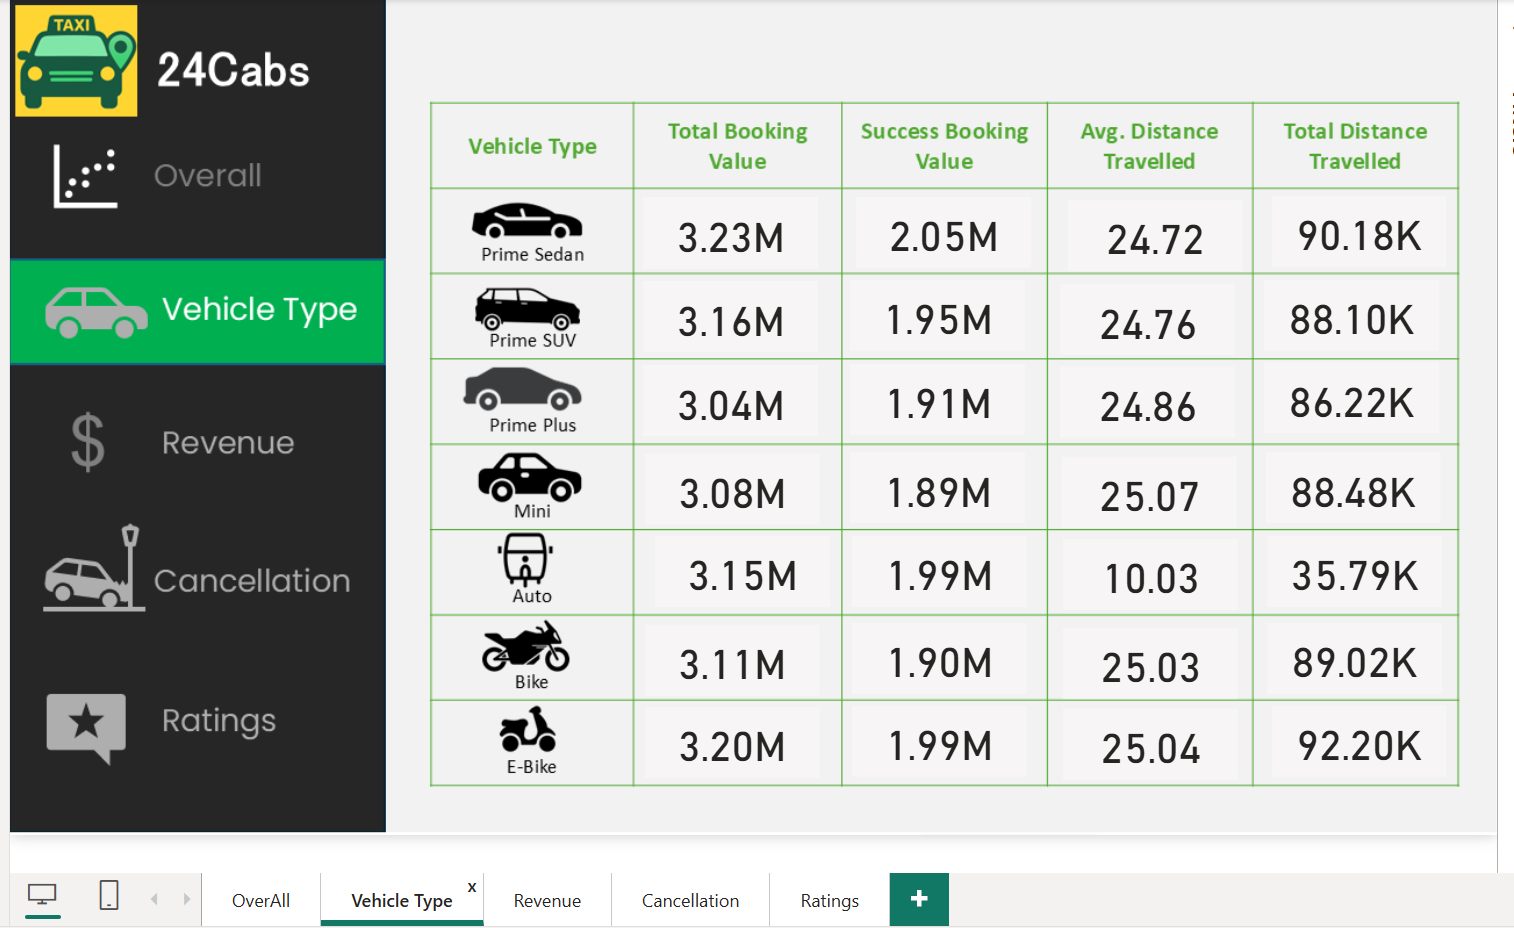

This screenshot's page, from the dashboard's own definition file:
{"tool":"powerbi","page":{"name":"Vehicle Type","canvas":[1280,720],"ordinal":1},"visuals":[{"type":"card","fields":{"Values":["Sum(July.Booking_Value)"]},"box":[544.8,169.8,150.9,62.1],"z":0},{"type":"card","fields":{"Values":["Sum(July.Booking_Value)"]},"box":[544.8,243.1,150.9,61.2],"z":1000},{"type":"card","fields":{"Values":["Sum(July.Booking_Value)"]},"box":[544.8,314.7,150.9,61.2],"z":2000},{"type":"card","fields":{"Values":["Sum(July.Booking_Value)"]},"box":[555.8,462.3,150.6,61],"z":3000},{"type":"card","fields":{"Values":["Sum(July.Booking_Value)"]},"box":[545.7,391.4,150.9,61.2],"z":4000},{"type":"card","fields":{"Values":["Sum(July.Booking_Value)"]},"box":[785.3,719.8,150.9,61.2],"z":5000},{"type":"card","fields":{"Values":["Sum(July.Booking_Value)"]},"box":[777.6,737.1,150.9,61.2],"z":6000},{"type":"card","fields":{"Values":["Sum(July.Booking_Value)"]},"box":[546.8,539,150.6,61],"z":7000},{"type":"card","fields":{"Values":["Sum(July.Booking_Value)"]},"box":[546.8,609.1,150.6,61],"z":8000},{"type":"card","fields":{"Values":["Sum(July.Booking_Value)"]},"box":[728.6,170.1,150.6,61],"z":9000},{"type":"card","fields":{"Values":["Sum(July.Booking_Value)"]},"box":[722.8,241.8,150.9,61.2],"z":10000},{"type":"card","fields":{"Values":["Sum(July.Booking_Value)"]},"box":[722.8,313.4,150.9,61.2],"z":11000},{"type":"card","fields":{"Values":["Sum(July.Booking_Value)"]},"box":[724.7,462.4,150.6,61],"z":12000},{"type":"card","fields":{"Values":["Sum(July.Booking_Value)"]},"box":[723.7,390.1,150.9,61.2],"z":13000},{"type":"card","fields":{"Values":["Sum(July.Booking_Value)"]},"box":[724.7,537.7,150.6,61],"z":14000},{"type":"card","fields":{"Values":["Sum(July.Booking_Value)"]},"box":[724.7,607.8,150.6,61],"z":15000},{"type":"card","fields":{"Values":["Avg(July.Ride_Distance)"]},"box":[910,173.2,150.6,61],"z":16000},{"type":"card","fields":{"Values":["Avg(July.Ride_Distance)"]},"box":[904.2,244.9,150.9,61.2],"z":17000},{"type":"card","fields":{"Values":["Avg(July.Ride_Distance)"]},"box":[904.2,316.5,150.9,61.2],"z":18000},{"type":"card","fields":{"Values":["Avg(July.Ride_Distance)"]},"box":[906.1,465.5,150.6,61],"z":19000},{"type":"card","fields":{"Values":["Avg(July.Ride_Distance)"]},"box":[905.1,393.2,150.9,61.2],"z":20000},{"type":"card","fields":{"Values":["Avg(July.Ride_Distance)"]},"box":[906.1,540.8,150.6,61],"z":21000},{"type":"card","fields":{"Values":["Avg(July.Ride_Distance)"]},"box":[906.1,610.9,150.6,61],"z":22000},{"type":"card","fields":{"Values":["Sum(July.Ride_Distance)"]},"box":[1085.8,169.7,150.6,61],"z":23000},{"type":"card","fields":{"Values":["Sum(July.Ride_Distance)"]},"box":[1080,241.5,150.9,61.2],"z":24000},{"type":"card","fields":{"Values":["Sum(July.Ride_Distance)"]},"box":[1080,313,150.9,61.2],"z":25000},{"type":"card","fields":{"Values":["Sum(July.Ride_Distance)"]},"box":[1081.9,462,150.6,61],"z":26000},{"type":"card","fields":{"Values":["Sum(July.Ride_Distance)"]},"box":[1080.8,389.7,150.9,61.2],"z":27000},{"type":"card","fields":{"Values":["Sum(July.Ride_Distance)"]},"box":[1081.9,537.3,150.6,61],"z":28000},{"type":"card","fields":{"Values":["Sum(July.Ride_Distance)"]},"box":[1085.7,607.8,150.6,61],"z":29000}]}

Visuals, with their boxes on the page's 1280x720 design canvas (x1, y1, x2, y2). These are canvas units, not pixel positions in the 1514x928 screenshot, which may show the page scaled, cropped or inside an application window:
card - Sum(July.Booking_Value): Rect(545, 170, 696, 232)
card - Sum(July.Booking_Value): Rect(545, 243, 696, 304)
card - Sum(July.Booking_Value): Rect(545, 315, 696, 376)
card - Sum(July.Booking_Value): Rect(556, 462, 706, 523)
card - Sum(July.Booking_Value): Rect(546, 391, 697, 453)
card - Sum(July.Booking_Value): Rect(785, 720, 936, 781)
card - Sum(July.Booking_Value): Rect(778, 737, 928, 798)
card - Sum(July.Booking_Value): Rect(547, 539, 697, 600)
card - Sum(July.Booking_Value): Rect(547, 609, 697, 670)
card - Sum(July.Booking_Value): Rect(729, 170, 879, 231)
card - Sum(July.Booking_Value): Rect(723, 242, 874, 303)
card - Sum(July.Booking_Value): Rect(723, 313, 874, 375)
card - Sum(July.Booking_Value): Rect(725, 462, 875, 523)
card - Sum(July.Booking_Value): Rect(724, 390, 875, 451)
card - Sum(July.Booking_Value): Rect(725, 538, 875, 599)
card - Sum(July.Booking_Value): Rect(725, 608, 875, 669)
card - Avg(July.Ride_Distance): Rect(910, 173, 1061, 234)
card - Avg(July.Ride_Distance): Rect(904, 245, 1055, 306)
card - Avg(July.Ride_Distance): Rect(904, 316, 1055, 378)
card - Avg(July.Ride_Distance): Rect(906, 466, 1057, 526)
card - Avg(July.Ride_Distance): Rect(905, 393, 1056, 454)
card - Avg(July.Ride_Distance): Rect(906, 541, 1057, 602)
card - Avg(July.Ride_Distance): Rect(906, 611, 1057, 672)
card - Sum(July.Ride_Distance): Rect(1086, 170, 1236, 231)
card - Sum(July.Ride_Distance): Rect(1080, 242, 1231, 303)
card - Sum(July.Ride_Distance): Rect(1080, 313, 1231, 374)
card - Sum(July.Ride_Distance): Rect(1082, 462, 1232, 523)
card - Sum(July.Ride_Distance): Rect(1081, 390, 1232, 451)
card - Sum(July.Ride_Distance): Rect(1082, 537, 1232, 598)
card - Sum(July.Ride_Distance): Rect(1086, 608, 1236, 669)
